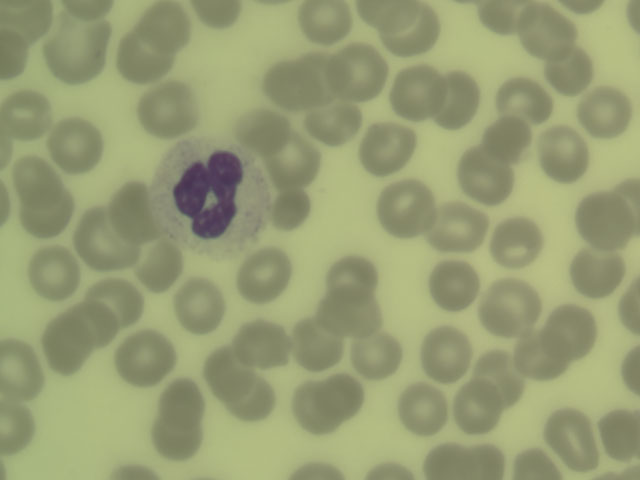RBC: (544, 402, 602, 472), (315, 284, 388, 337), (457, 144, 518, 199), (517, 5, 579, 59), (377, 179, 433, 238), (533, 125, 589, 184), (578, 84, 634, 143), (417, 324, 473, 383), (395, 379, 451, 438), (349, 322, 405, 381), (289, 314, 345, 373), (137, 80, 193, 139), (237, 246, 293, 305), (173, 271, 229, 330), (115, 328, 171, 387), (77, 208, 133, 267), (105, 181, 161, 240), (26, 244, 82, 303), (19, 182, 75, 241), (50, 21, 106, 80), (570, 240, 626, 299), (574, 188, 630, 247), (451, 376, 507, 435), (548, 301, 604, 360), (481, 277, 537, 336), (488, 212, 544, 271), (430, 68, 486, 127), (389, 61, 445, 120), (333, 43, 389, 102), (380, 4, 443, 56), (235, 315, 293, 368), (294, 1, 357, 48), (50, 116, 105, 169), (133, 1, 197, 46), (116, 30, 175, 78), (425, 258, 478, 311), (156, 376, 209, 429), (1, 85, 55, 137), (264, 133, 321, 182), (43, 315, 89, 375), (359, 121, 414, 171), (432, 206, 490, 253), (1, 339, 44, 402), (544, 43, 596, 95), (289, 383, 341, 434), (315, 371, 368, 421), (134, 243, 188, 292), (306, 99, 360, 148), (597, 402, 640, 462), (498, 78, 554, 124), (203, 345, 251, 398), (67, 301, 120, 348), (511, 338, 566, 383), (475, 1, 545, 36), (477, 352, 525, 403), (264, 61, 317, 107), (153, 416, 206, 462), (88, 279, 141, 325), (225, 375, 275, 423), (296, 51, 342, 103), (6, 156, 57, 202), (237, 108, 289, 153), (1, 398, 38, 459), (328, 250, 380, 291), (268, 183, 313, 229), (476, 120, 533, 156), (354, 1, 419, 32), (1, 1, 56, 36), (186, 1, 250, 30), (608, 279, 640, 337), (458, 442, 508, 479), (418, 445, 470, 480), (1, 30, 31, 82), (288, 451, 343, 479), (512, 446, 557, 480), (612, 343, 640, 394), (58, 1, 113, 24), (363, 456, 413, 479)
WBC: (159, 136, 266, 251)
